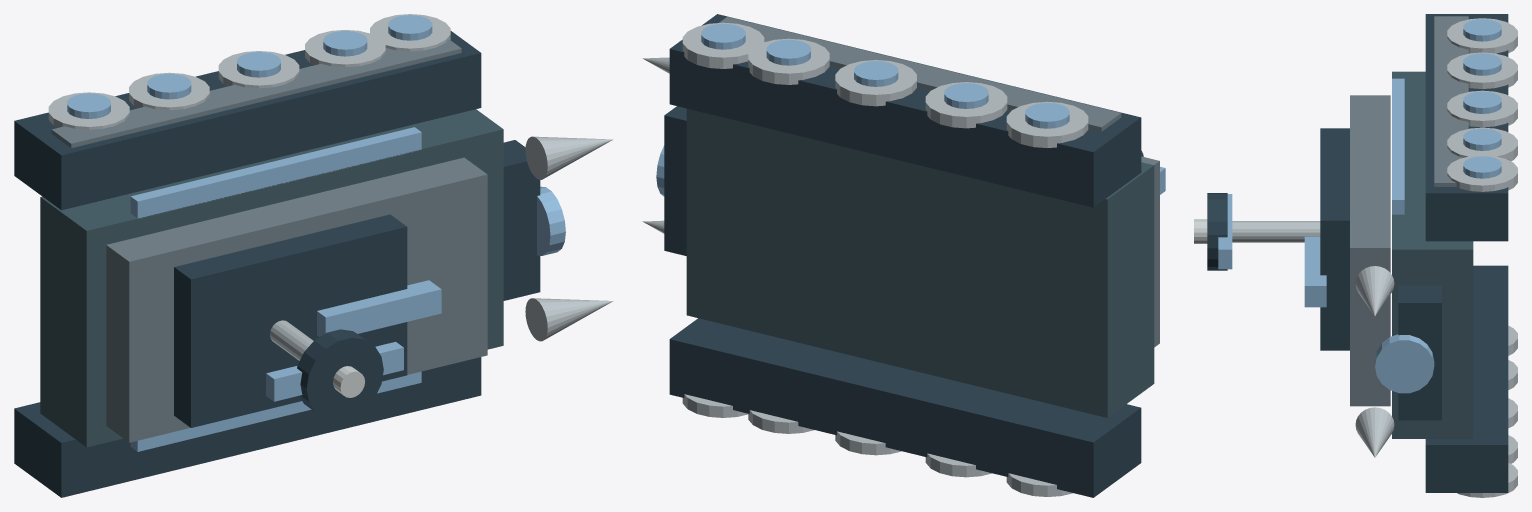
The model's file is MAP-03.glb.
3 renders of one model, left to right at view 1: azimuth 30°, elevation 25°; view 2: azimuth 150°, elevation 25°; view 3: azimuth 270°, elevation 25°, orthographic. The views are drawn at different scales.
Visible parts, largest first — view 1: world; view 2: world; view 3: world.
Part boxes in pixels (x1,y1,x2,y2): world: [14, 14, 613, 497]; world: [642, 14, 1165, 497]; world: [1194, 14, 1517, 497].
Size of the model in its own units: 3.39 by 2.3 by 2.08.
